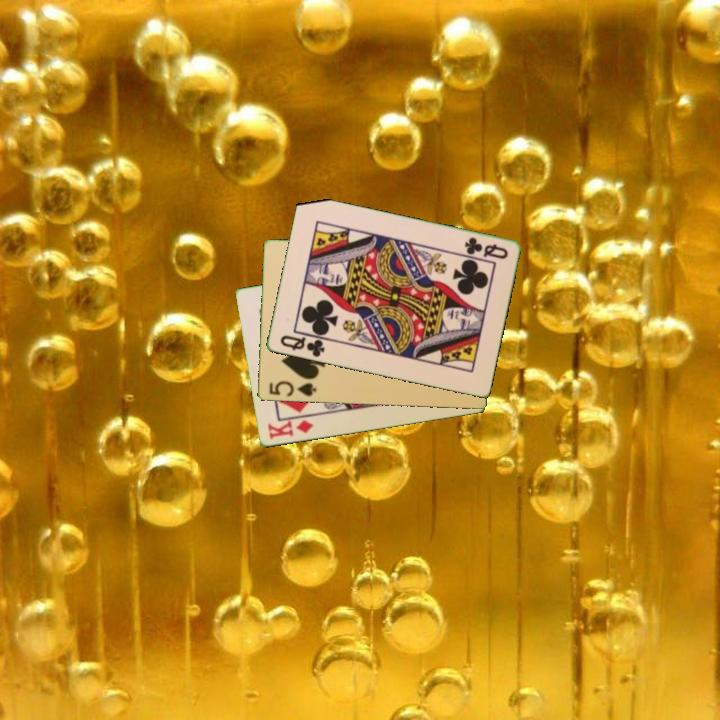5s: (265, 377, 319, 400)
Kd: (264, 417, 316, 442)
Qc: (276, 332, 328, 360), (460, 234, 510, 262)
